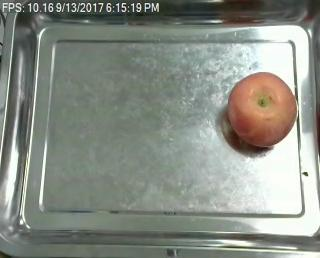apple: (229, 71, 297, 147)
